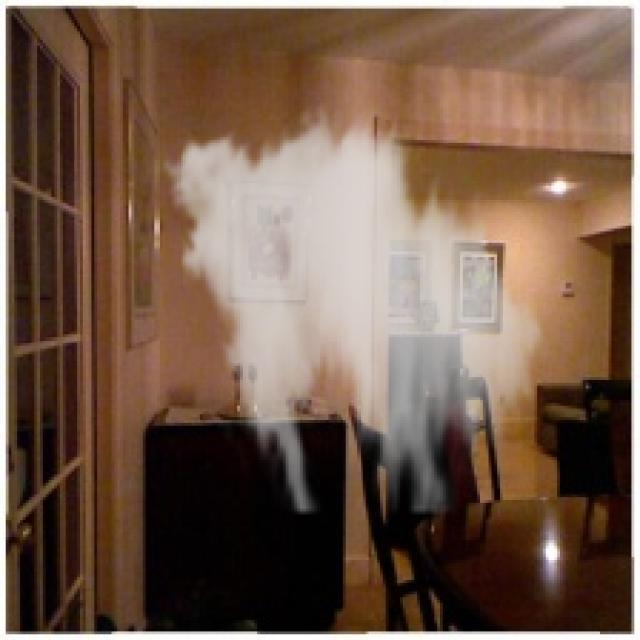Smoke: (152, 102, 554, 514)
